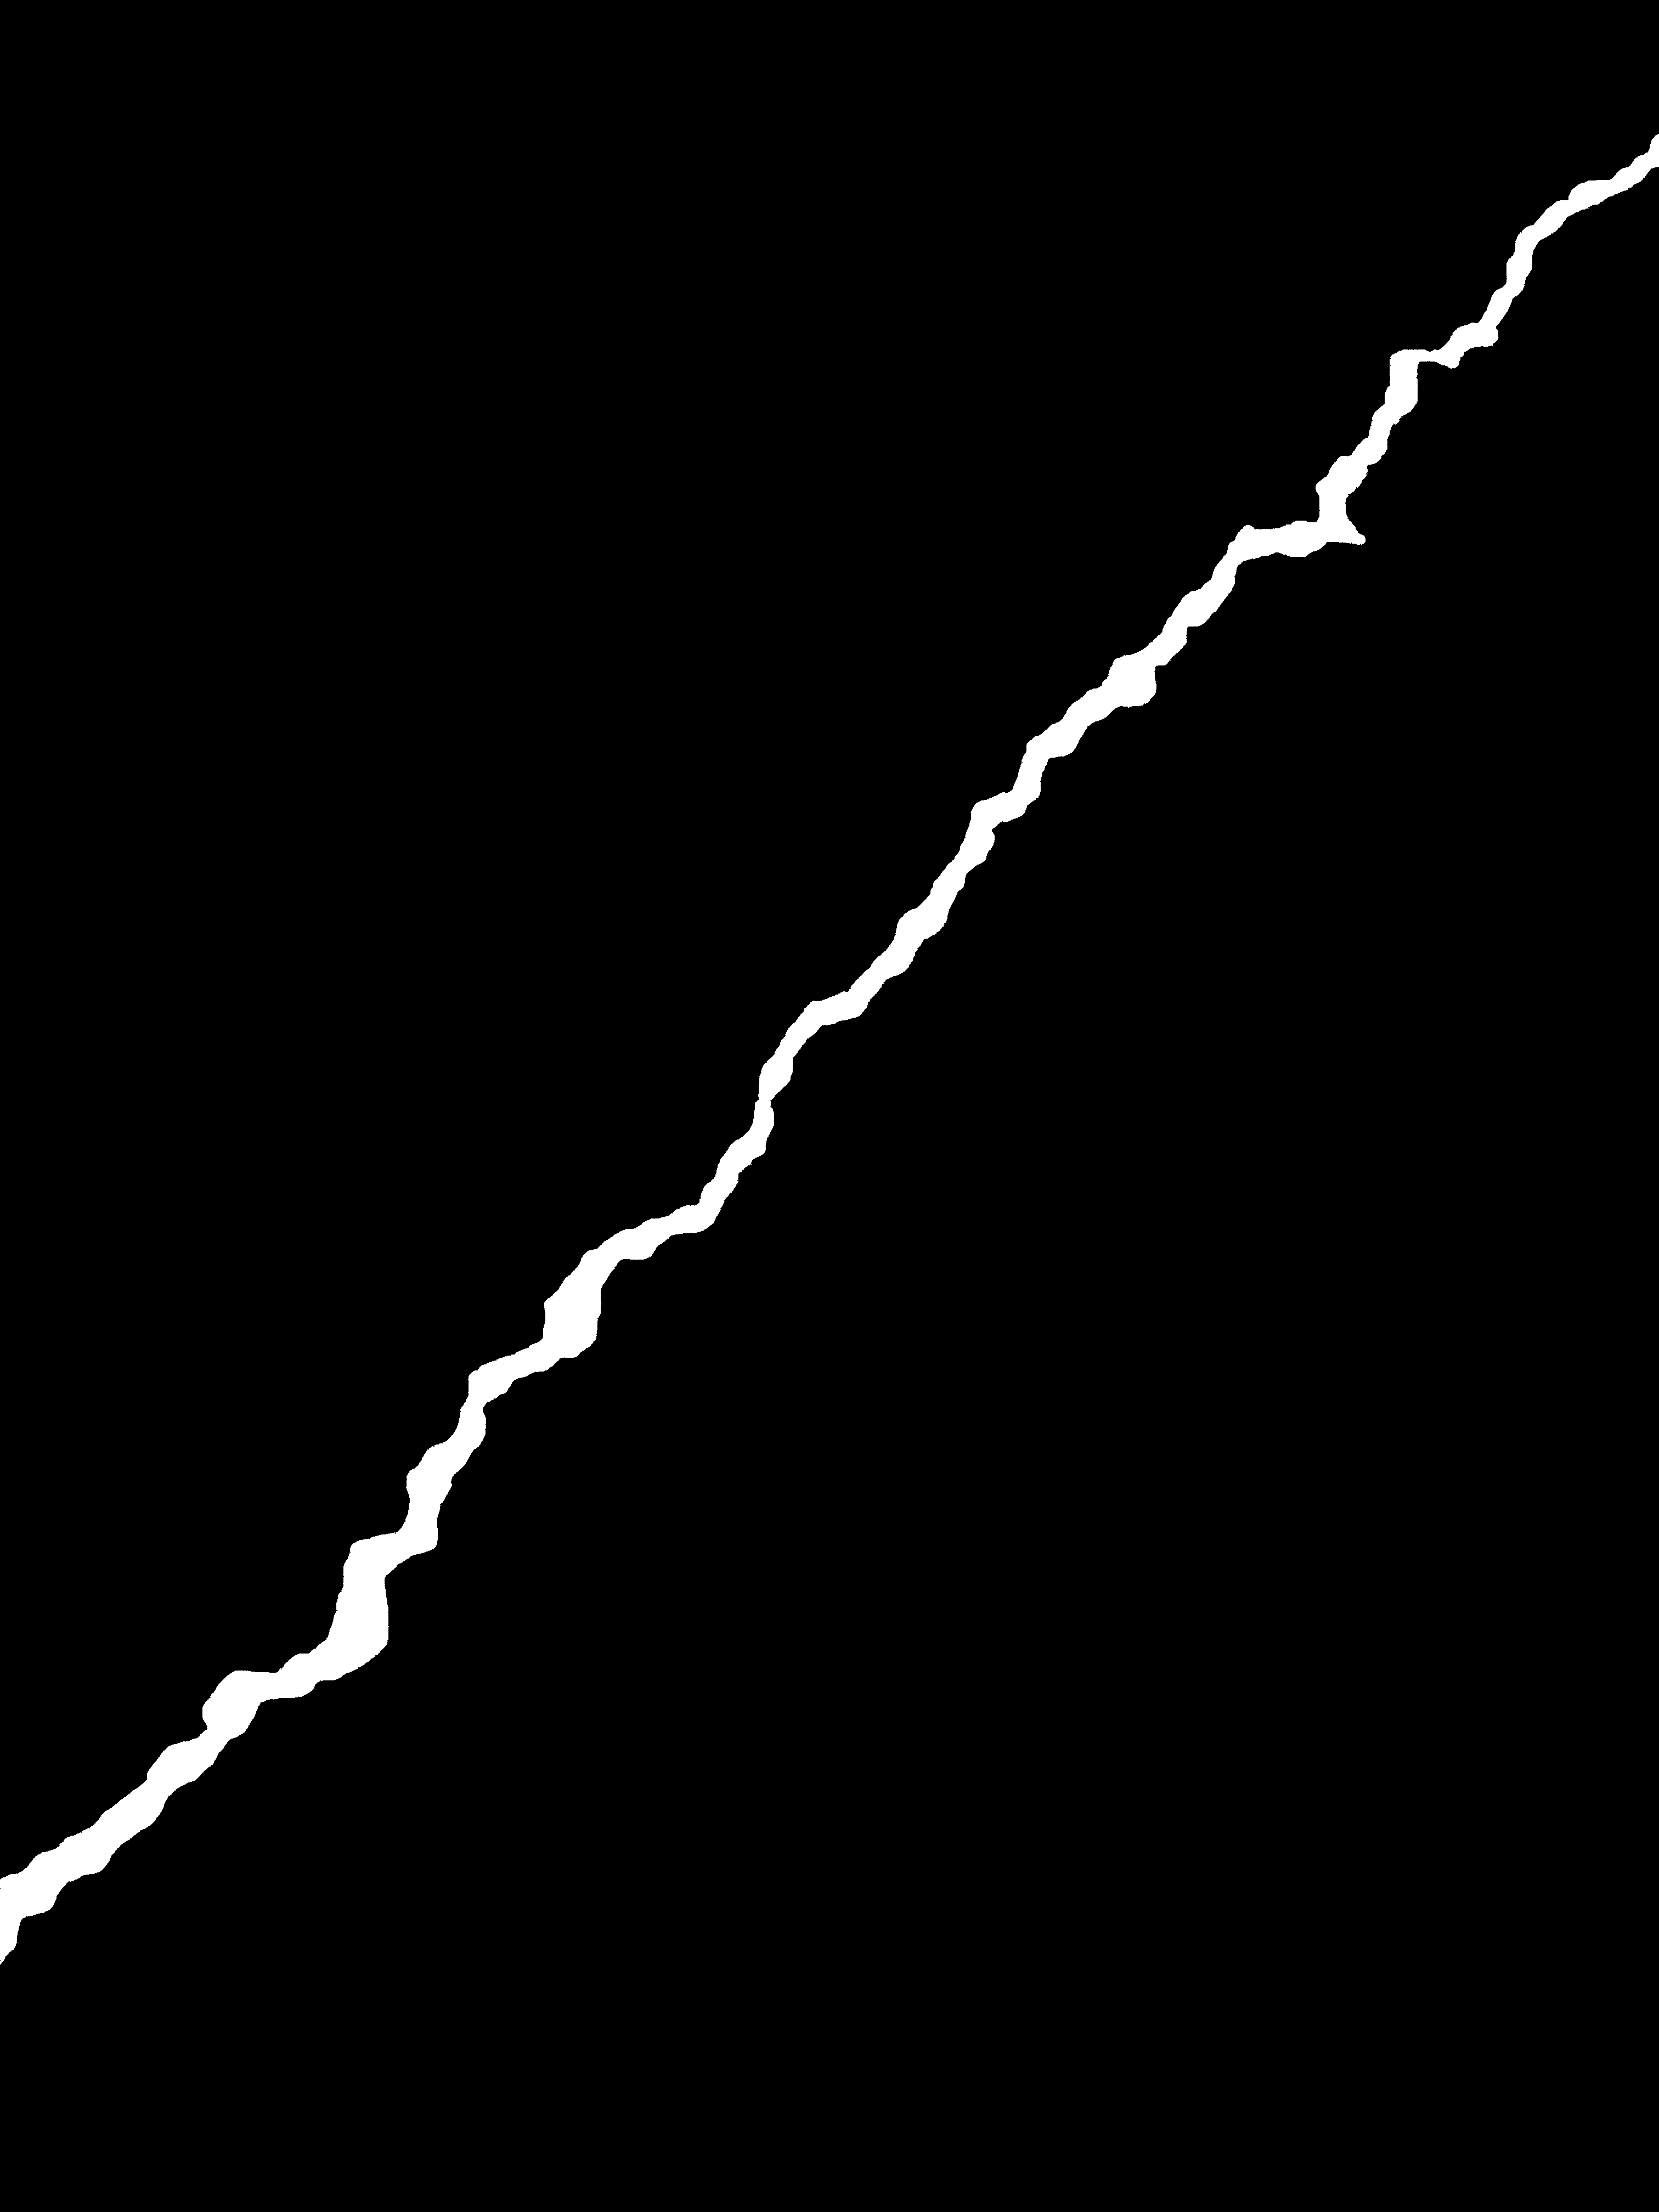Crack: (0, 59, 1659, 1973)
